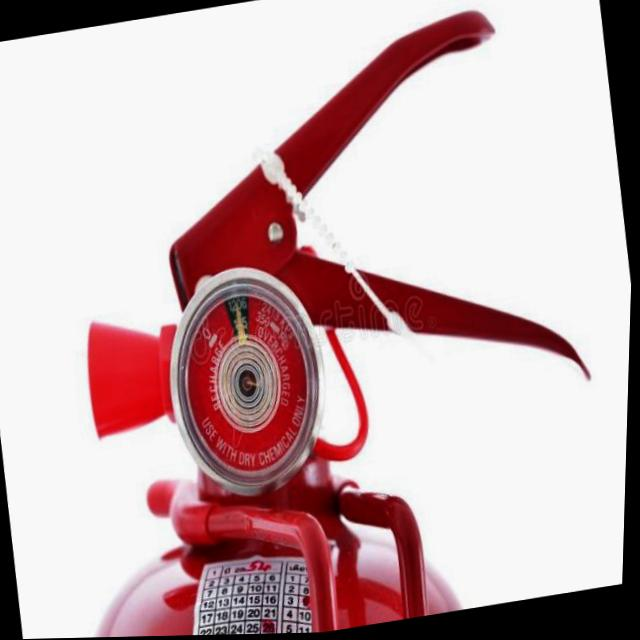FireExtinguisher: (0, 0, 633, 640)
